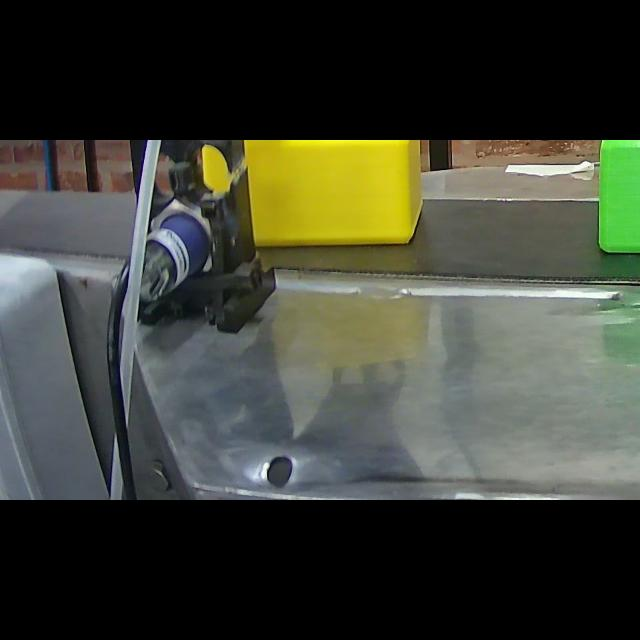greenBox: (590, 140, 640, 262)
yellowBox: (188, 140, 432, 254)
